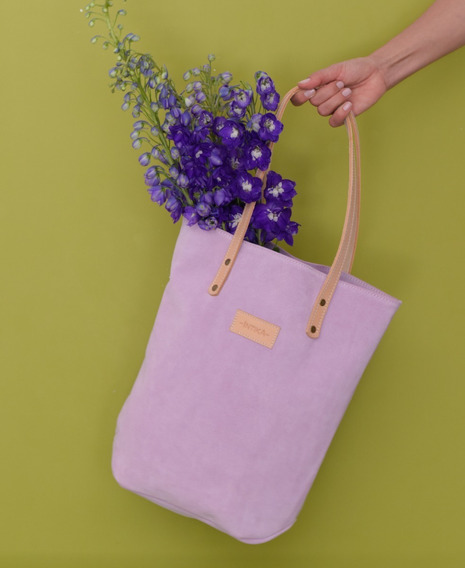cartera: (111, 77, 403, 544)
